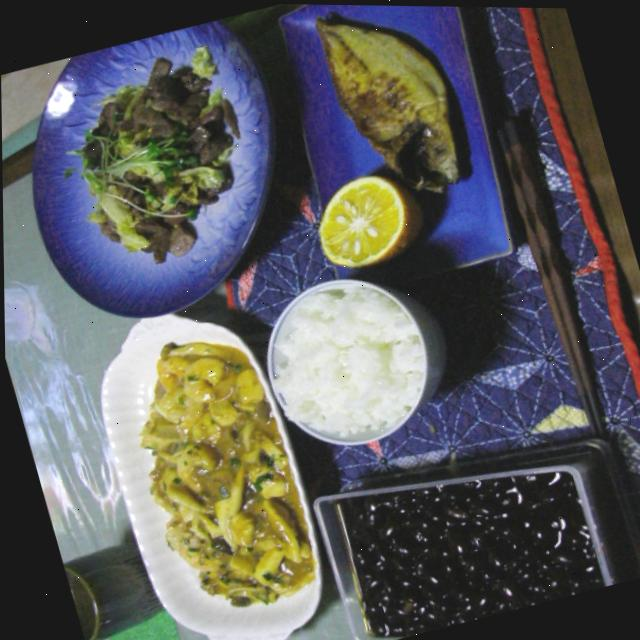蔬菜料理: (57, 58, 257, 251)
